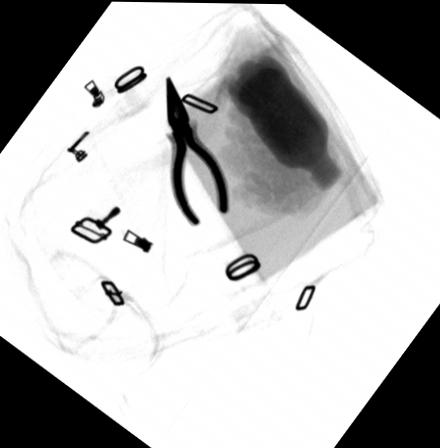Pliers: (165, 74, 229, 225)
